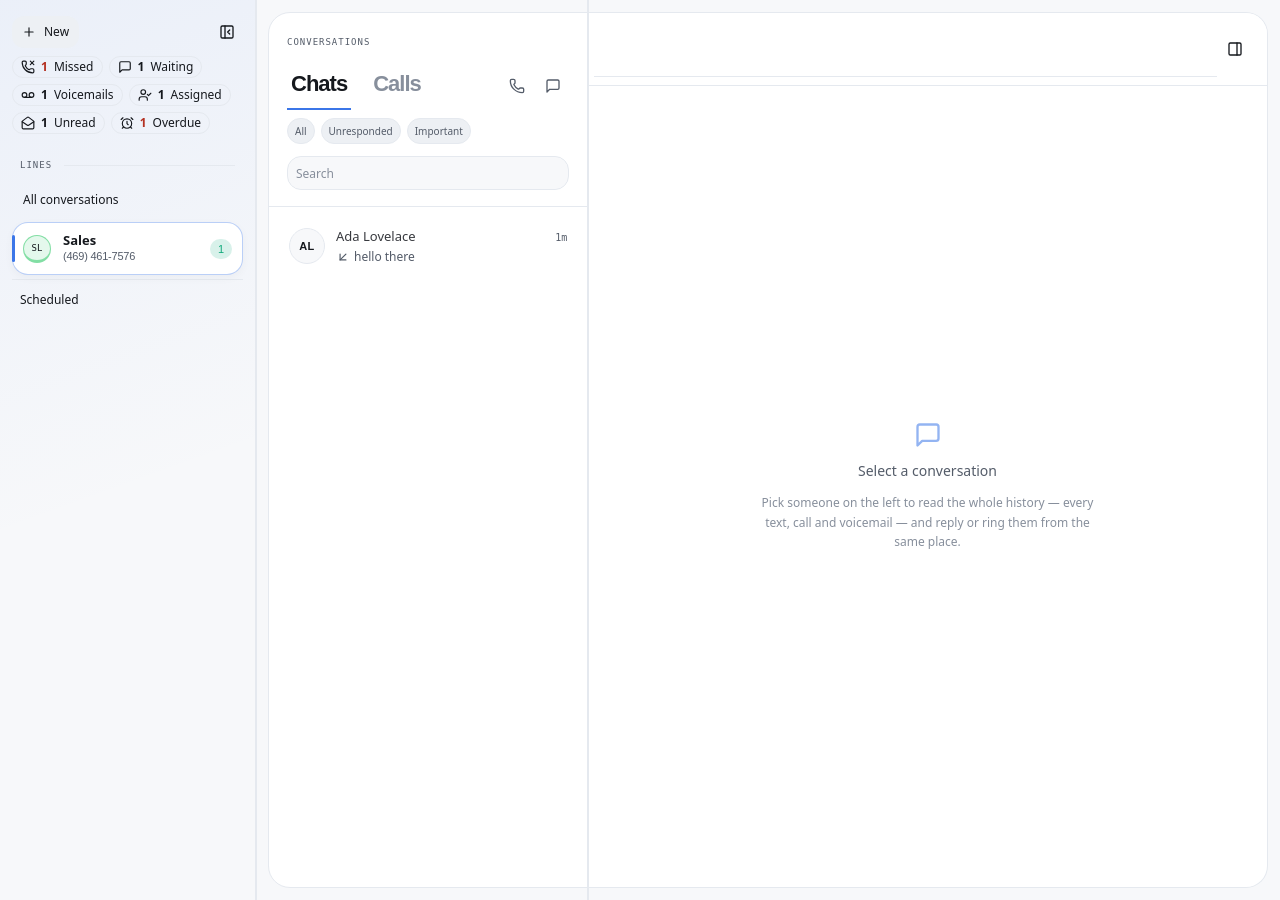
Test: ConversationsPage › New text message sends via POST /api/v1/messages and selects the resulting pair
Check: the text "Ada Lovelace" is shown, box [336, 227, 416, 247]
Click the button named "New text message": coordinates (553, 86) [537, 70, 569, 102]
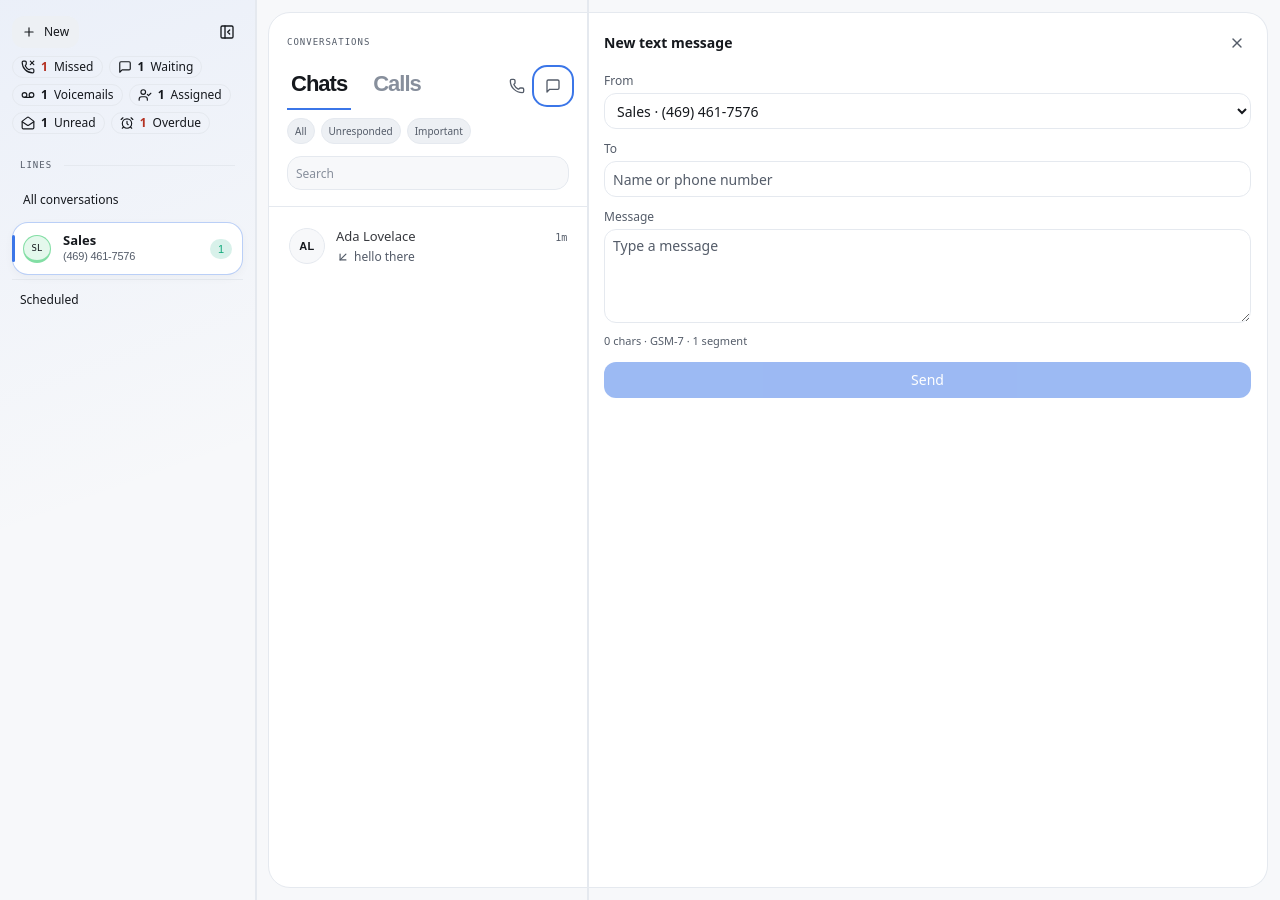
Check: the heading "New text message" is shown, box [604, 33, 732, 53]
In the dropdown labelled "To": coordinates (928, 179) [604, 161, 1251, 197], type "9725550999"
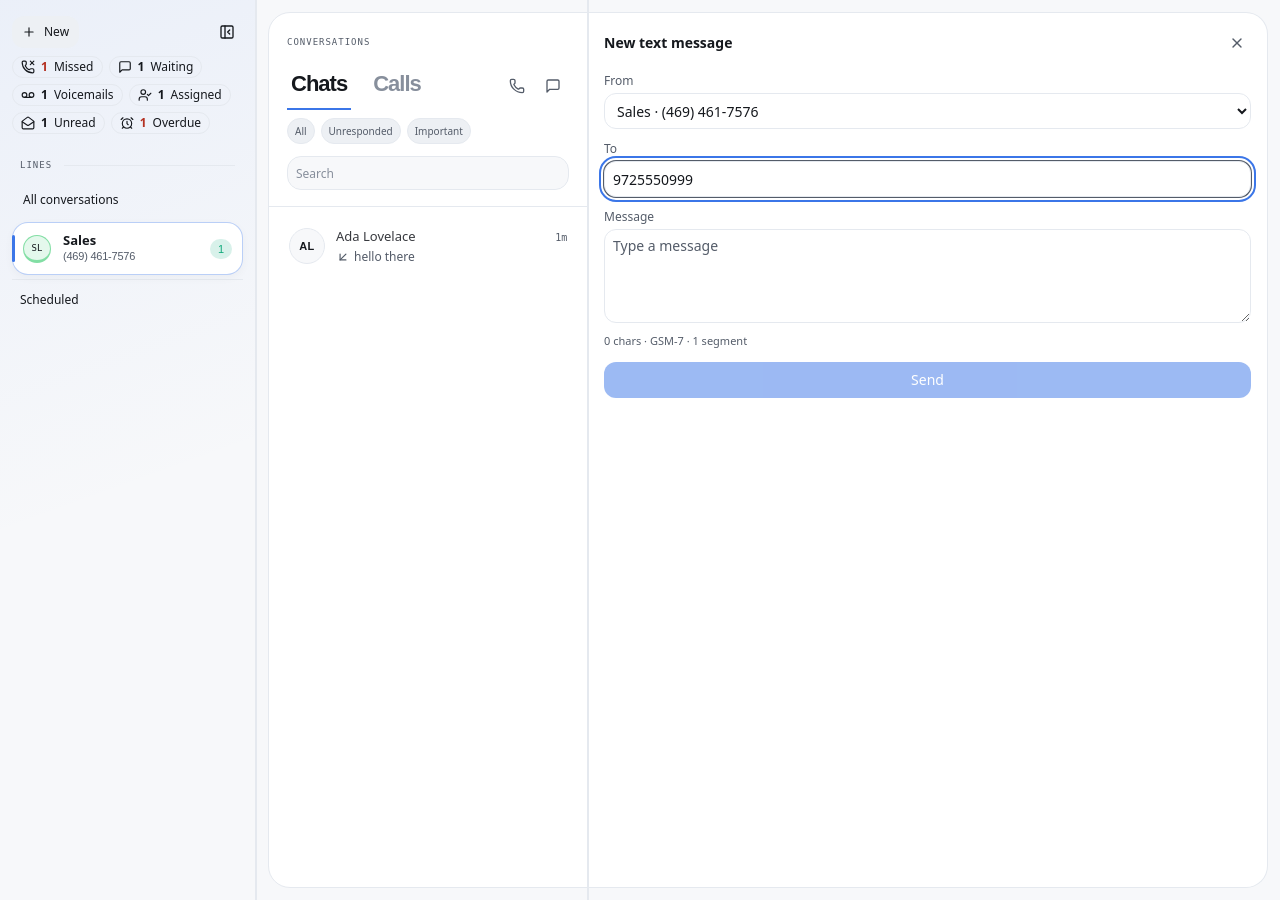
In the text box labelled "Message": coordinates (928, 276) [604, 229, 1251, 323], type "hi there"
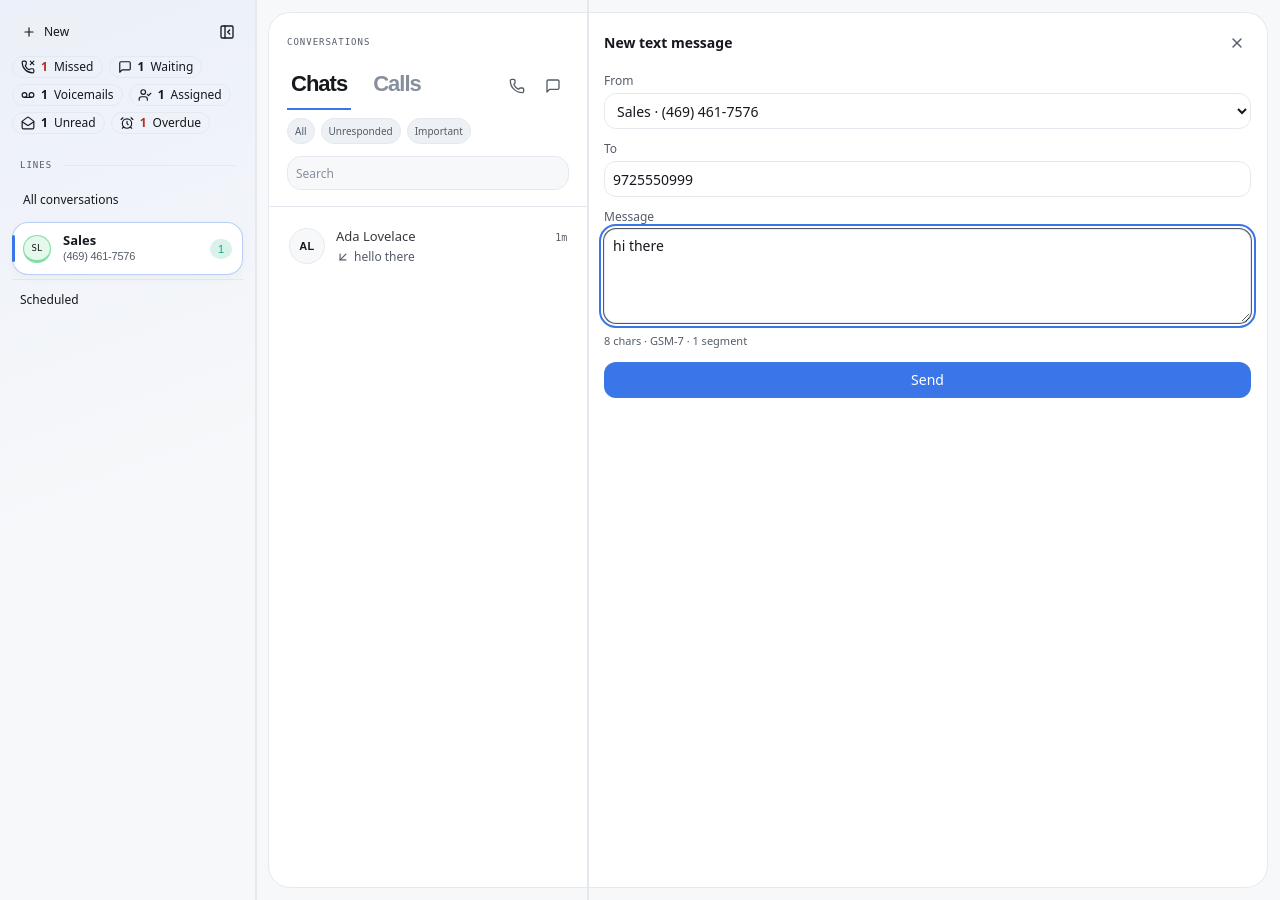
Click the button "Send": coordinates (928, 380) [604, 362, 1251, 398]
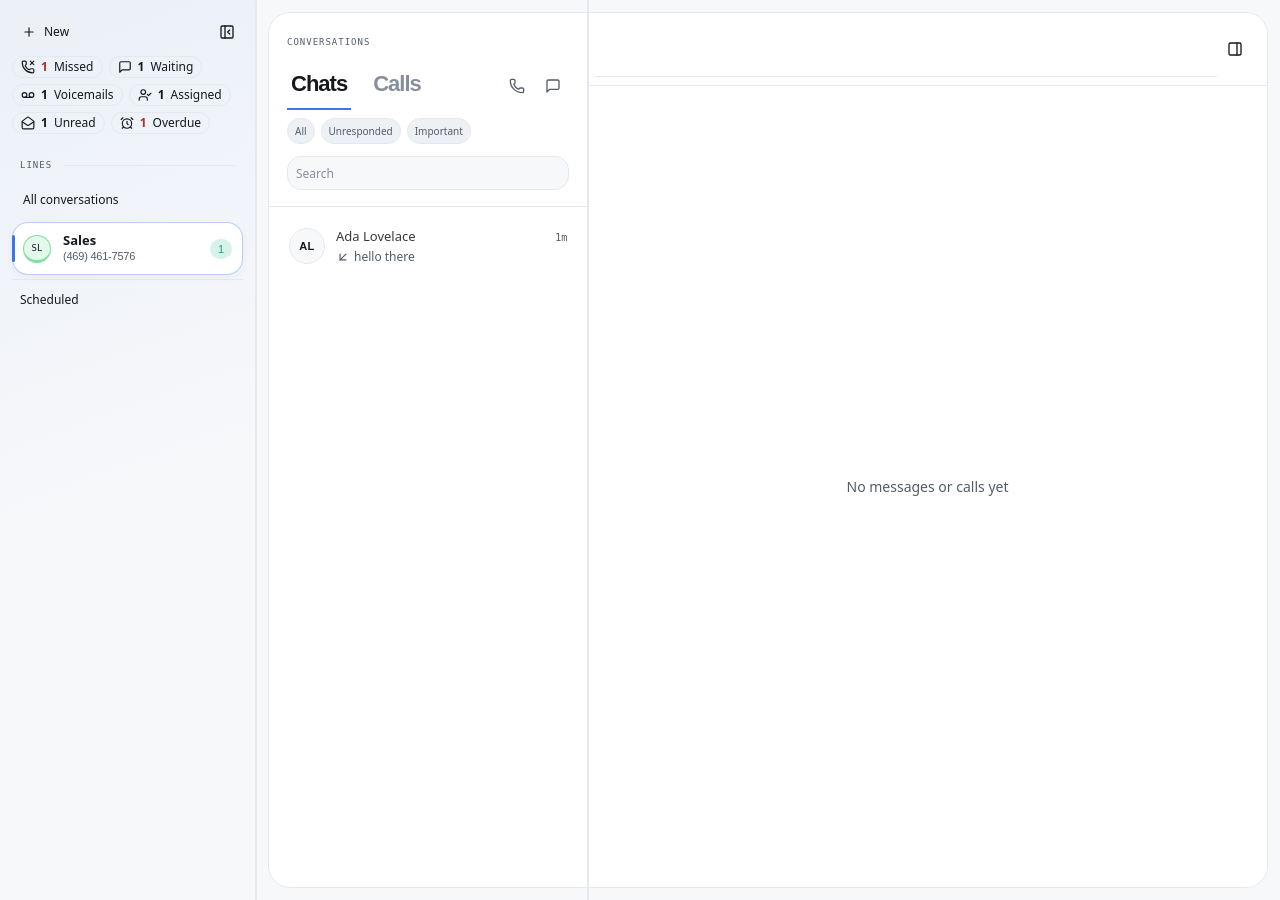
Check: the heading "New text message" is gone
